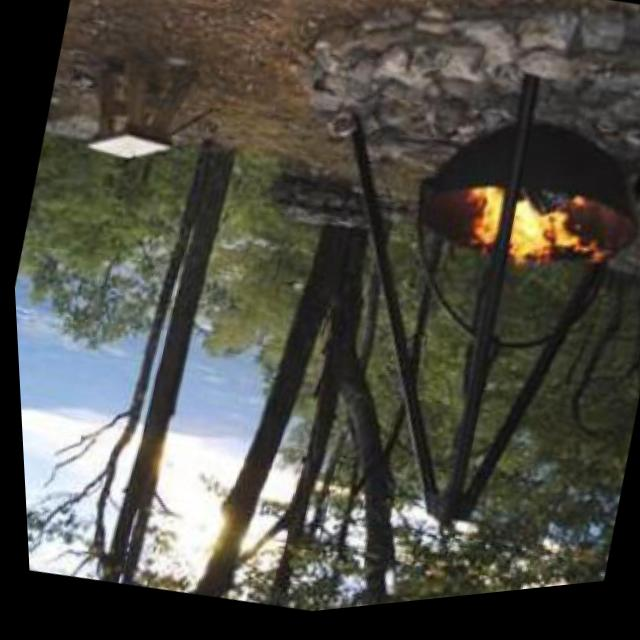Fire: (443, 167, 593, 309)
